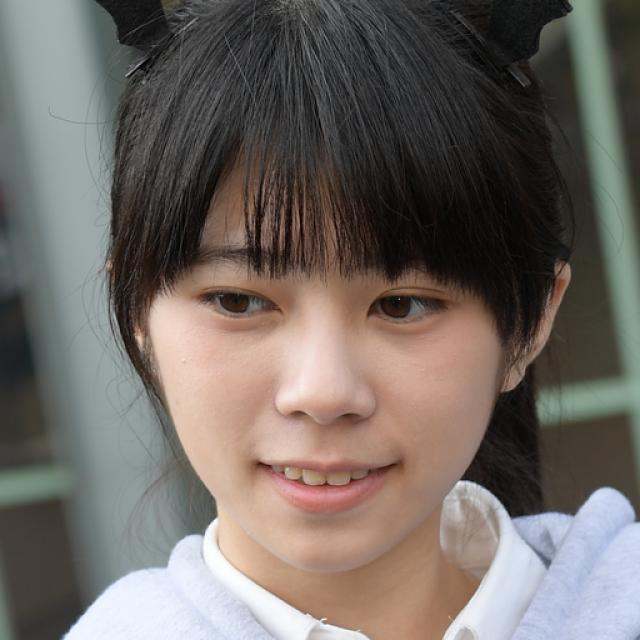0_rostro_limpio: (149, 31, 570, 574)
